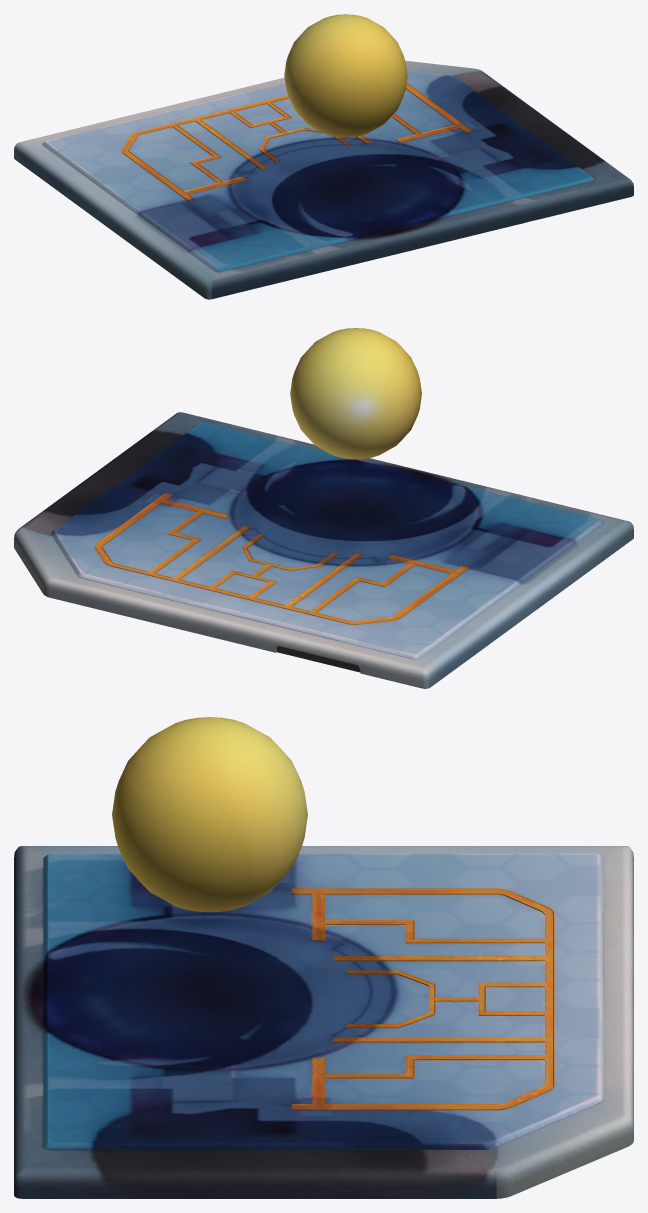
The model's file is pref_sm_choujiangjiemian_mx01b_lv0.fbx.
3 renders of one model, top to bottom at view 1: azimuth 30°, elevation 25°; view 2: azimuth 150°, elevation 25°; view 3: azimuth 270°, elevation 25°, orthographic. The views are drawn at different scales.
Parts seen in each view (by area): view 1: pref_sm_choujiangjiemian_mx01b_lv0; view 2: pref_sm_choujiangjiemian_mx01b_lv0; view 3: pref_sm_choujiangjiemian_mx01b_lv0.
Part boxes in pixels (<box>): pref_sm_choujiangjiemian_mx01b_lv0: <box>14,14,633,299</box>; pref_sm_choujiangjiemian_mx01b_lv0: <box>14,328,633,688</box>; pref_sm_choujiangjiemian_mx01b_lv0: <box>14,717,633,1198</box>.
Bounding box in the file's own units: 4.88 × 2.03 × 3.85.
